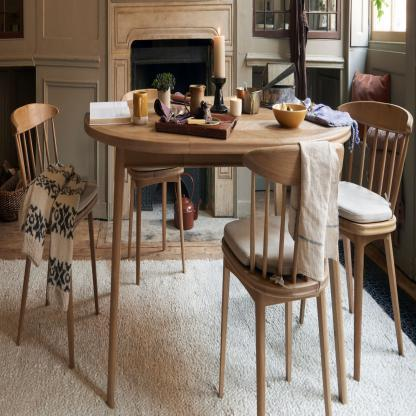chair: (216, 132, 344, 416), (9, 102, 102, 382), (338, 93, 416, 389), (117, 82, 193, 285)
table: (84, 105, 344, 416)
